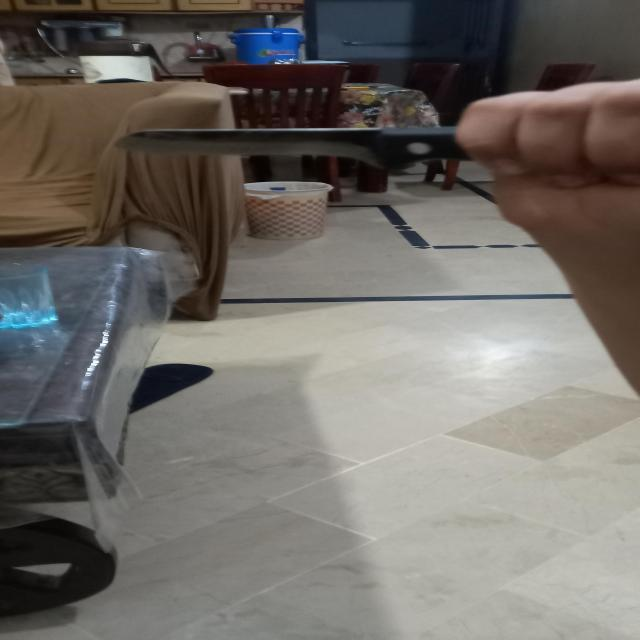knife: (91, 121, 640, 187)
